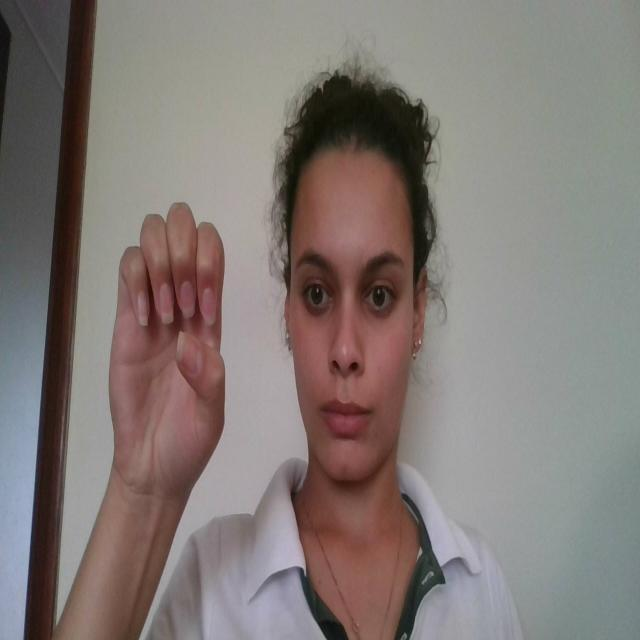E: (104, 202, 230, 490)
